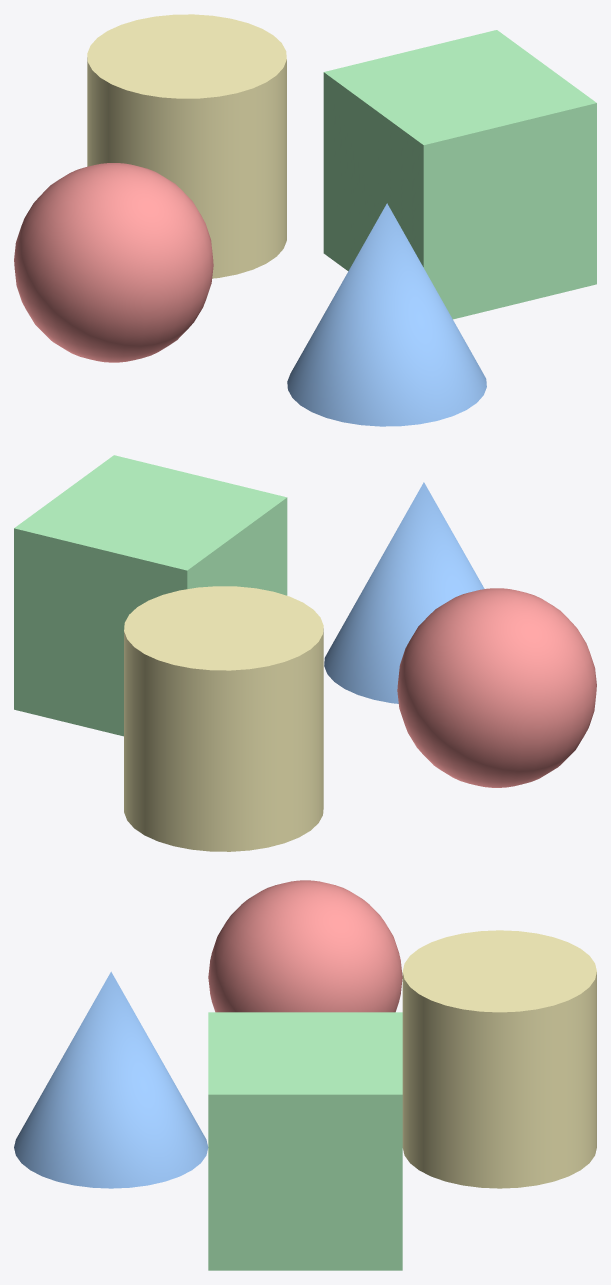
Rendered from reflect.gltf.
3 views of the same model, one above another, from view 1: azimuth 30°, elevation 25°; view 2: azimuth 150°, elevation 25°; view 3: azimuth 270°, elevation 25° (orthographic). The views are drawn at different scales.
Parts seen in each view (by area): view 1: Cube, Cylinder, Sphere, Cone; view 2: Cylinder, Cube, Sphere, Cone; view 3: Cube, Cylinder, Cone, Sphere.
Boxes of the visible parts, x1,y1,x2,y2 form: Cube: (323,30,596,319); Cylinder: (87,14,286,278); Sphere: (14,163,213,362); Cone: (287,203,486,426); Cylinder: (124,586,323,851); Cube: (14,455,287,736); Sphere: (397,588,596,787); Cone: (324,482,484,703); Cube: (208,1012,402,1270); Cylinder: (402,930,596,1188); Cone: (14,971,208,1188); Sphere: (208,880,402,1012).
Bounding box in the file's own units: 6 × 2 × 6.
